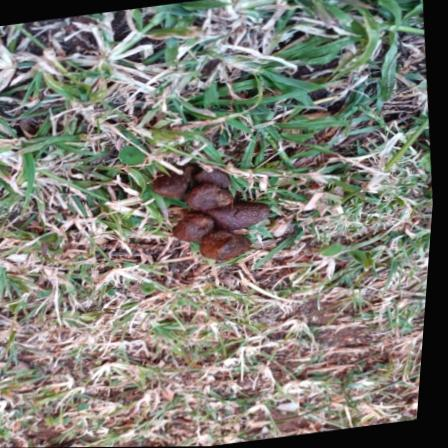dog-poop: (133, 149, 280, 279)
